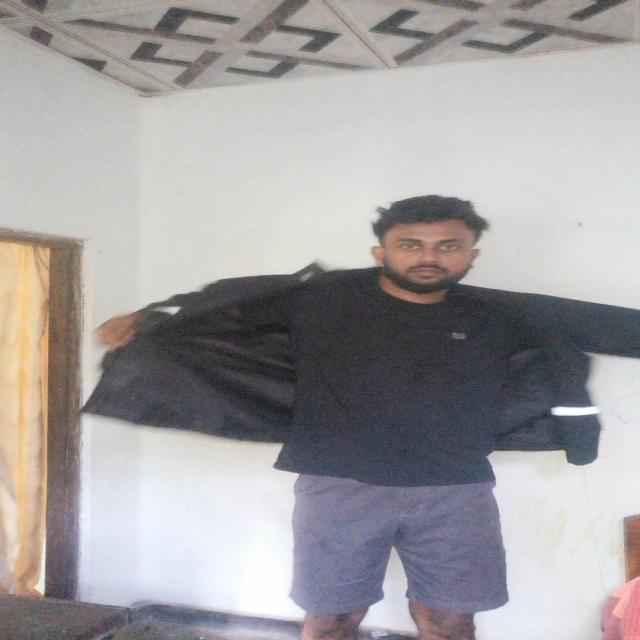Jacket_Wearer: (93, 255, 640, 468)
